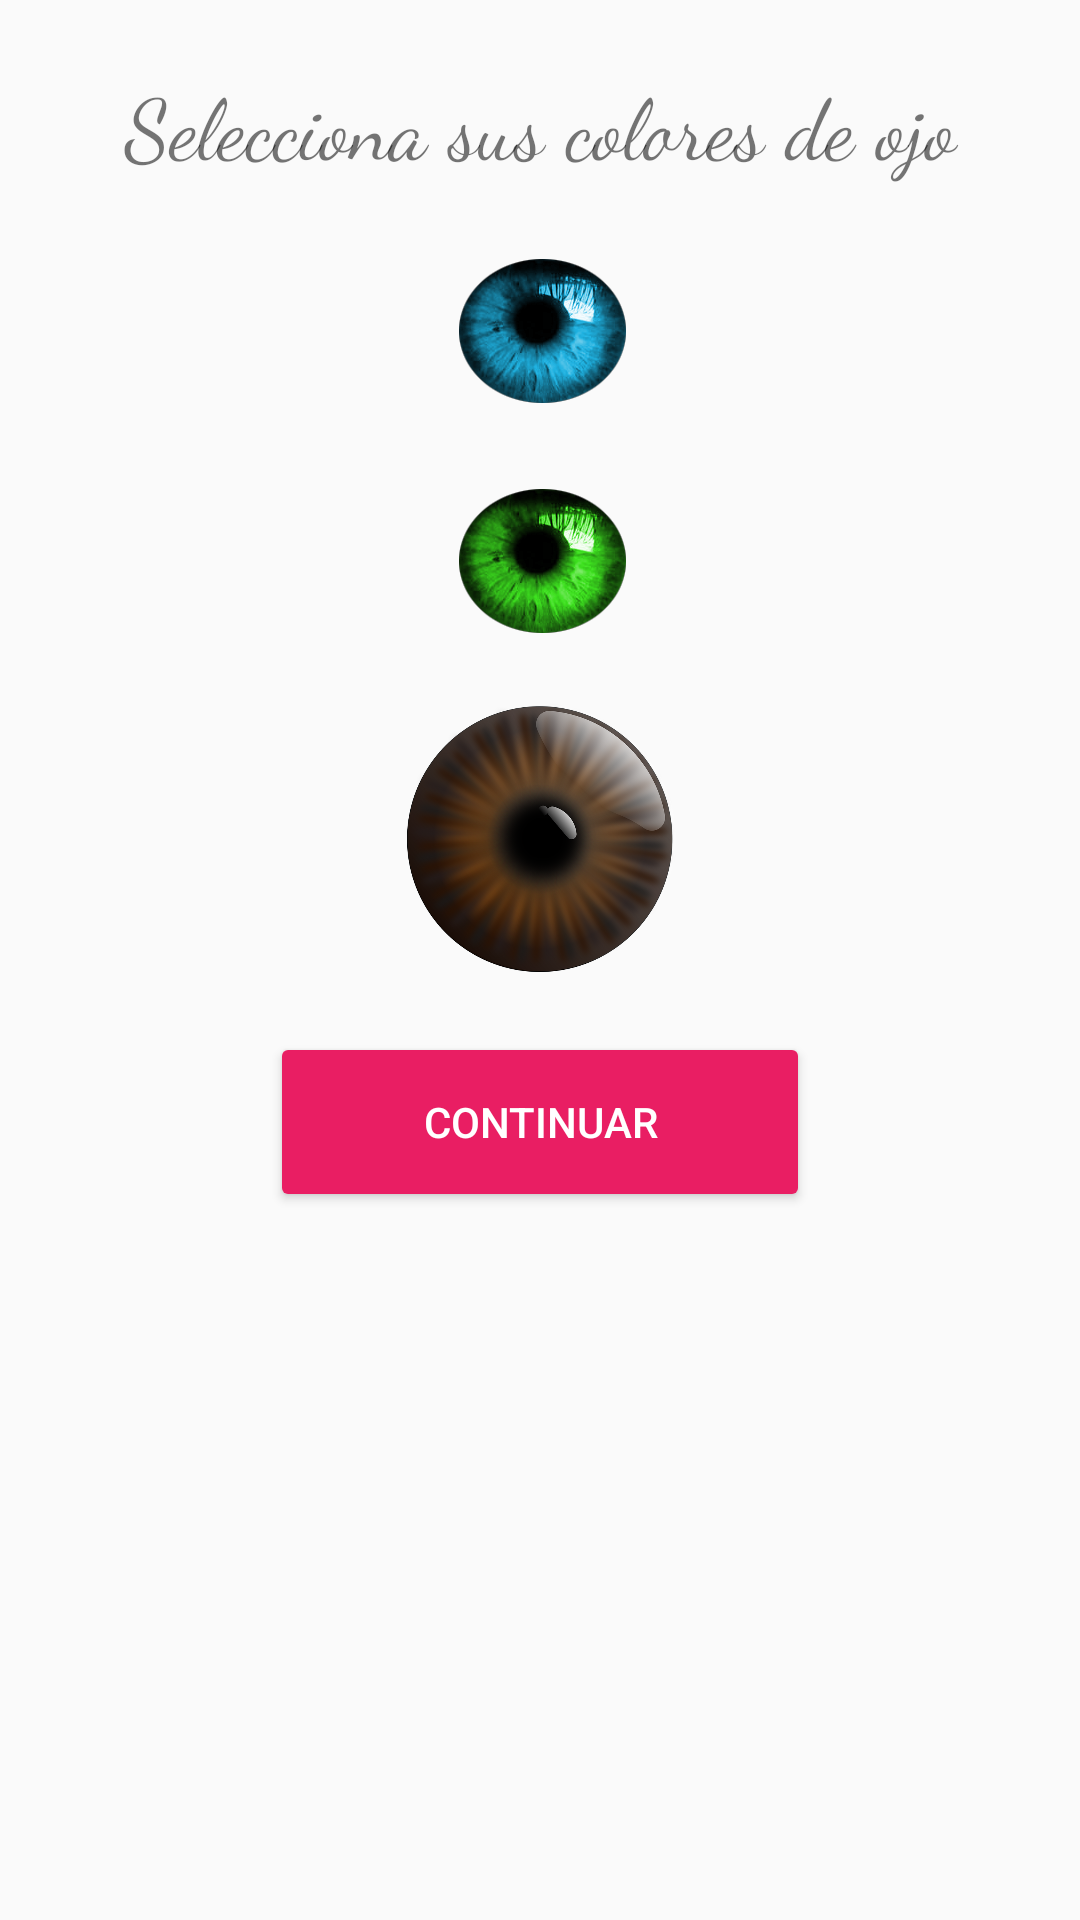

Locate icon controls on the screen. Image size 1080px x 1920px, boxes as (x1, y1, x2, y2).
azul: (459, 259, 626, 403)
cafe: (407, 706, 673, 972)
verde: (459, 489, 626, 633)
